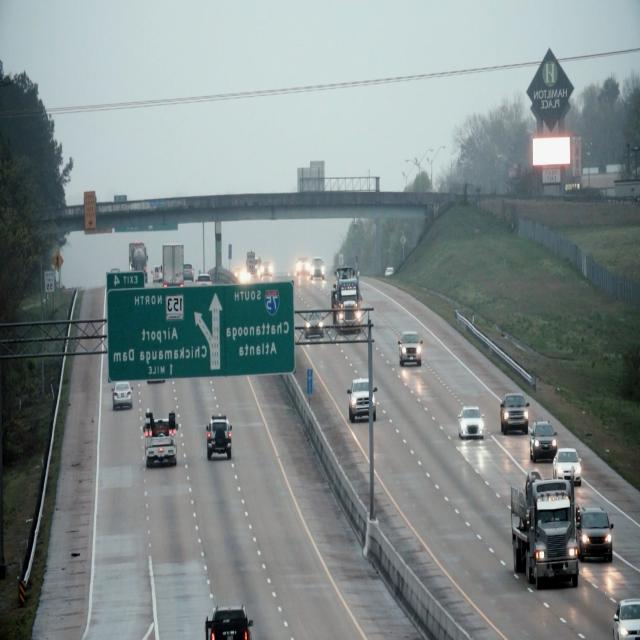Vehicle: (506, 472, 577, 592), (330, 263, 366, 336), (142, 415, 182, 469), (578, 509, 611, 566), (346, 375, 380, 422), (528, 411, 559, 462), (549, 443, 583, 486), (496, 394, 530, 435), (456, 402, 484, 444), (204, 417, 230, 460), (397, 330, 424, 368), (300, 309, 327, 343), (111, 381, 132, 410)
